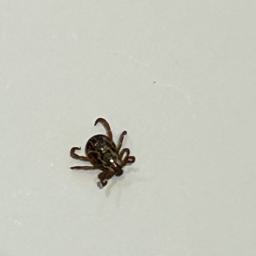Dermacentor variabilis: (68, 118, 138, 191)
